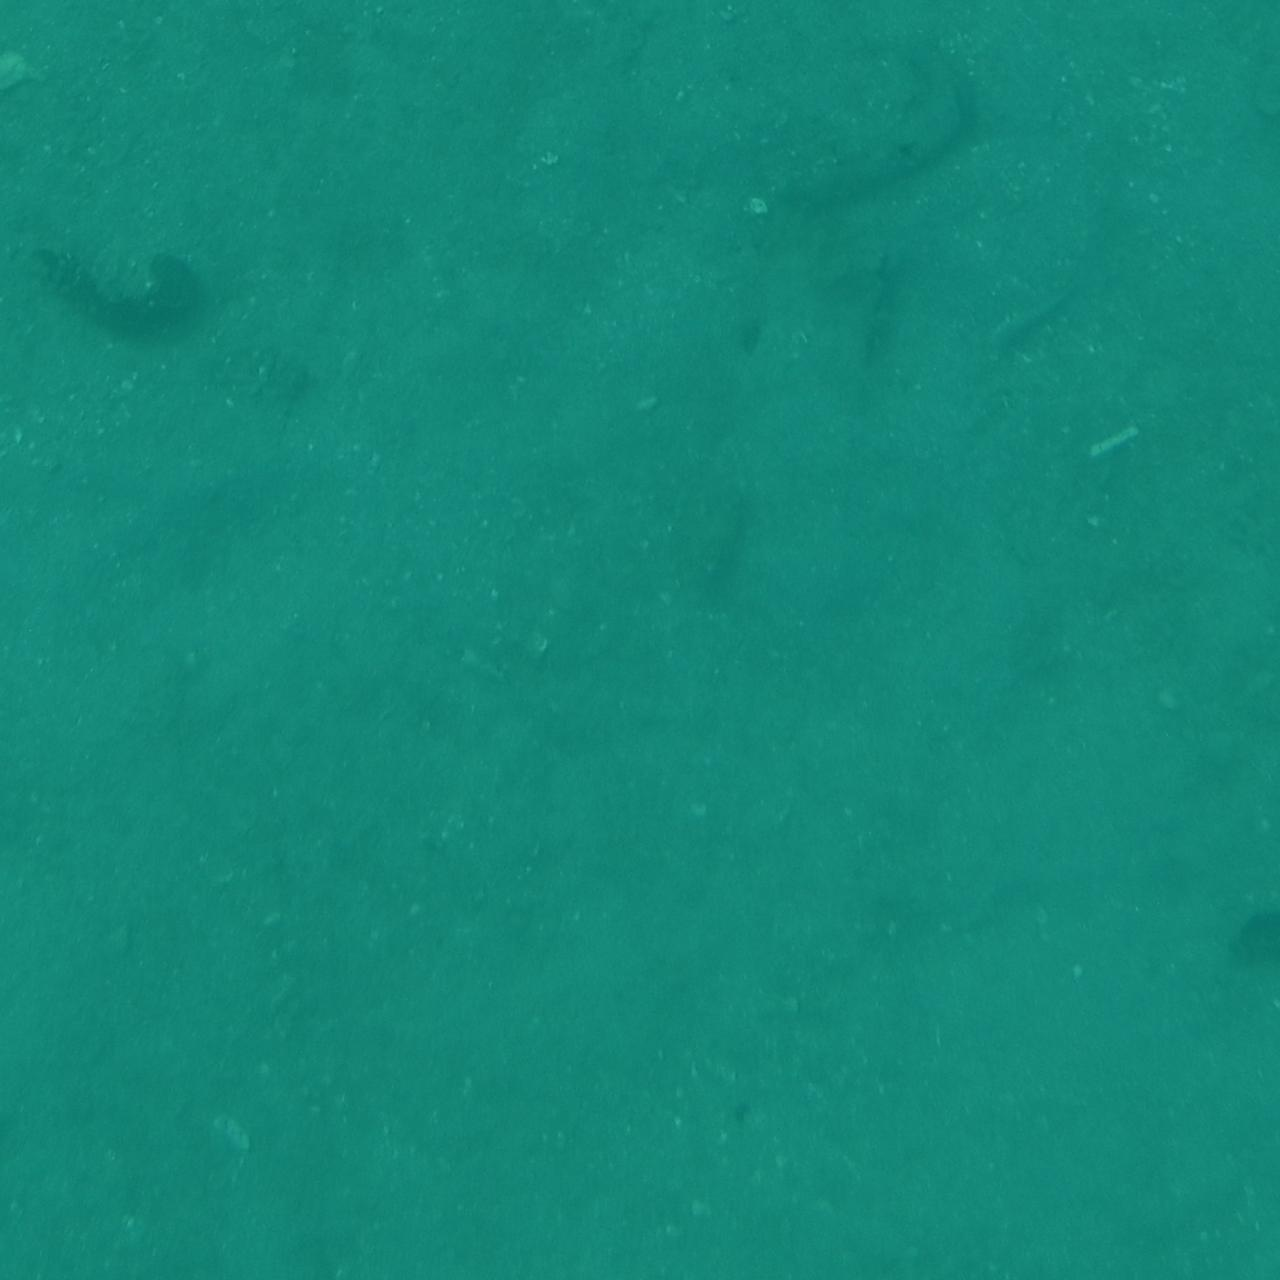Holothuria tubulosa: (744, 45, 989, 238), (1136, 828, 1280, 988), (34, 222, 207, 354), (1217, 988, 1280, 1280), (0, 105, 63, 376)
